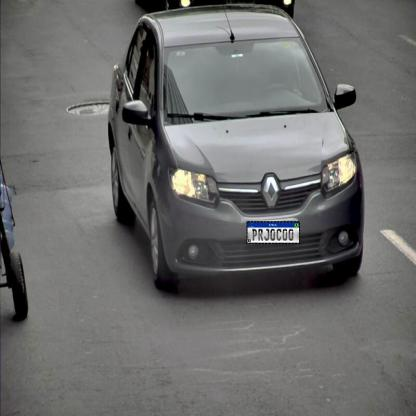PlacaM: (247, 221, 300, 244)
